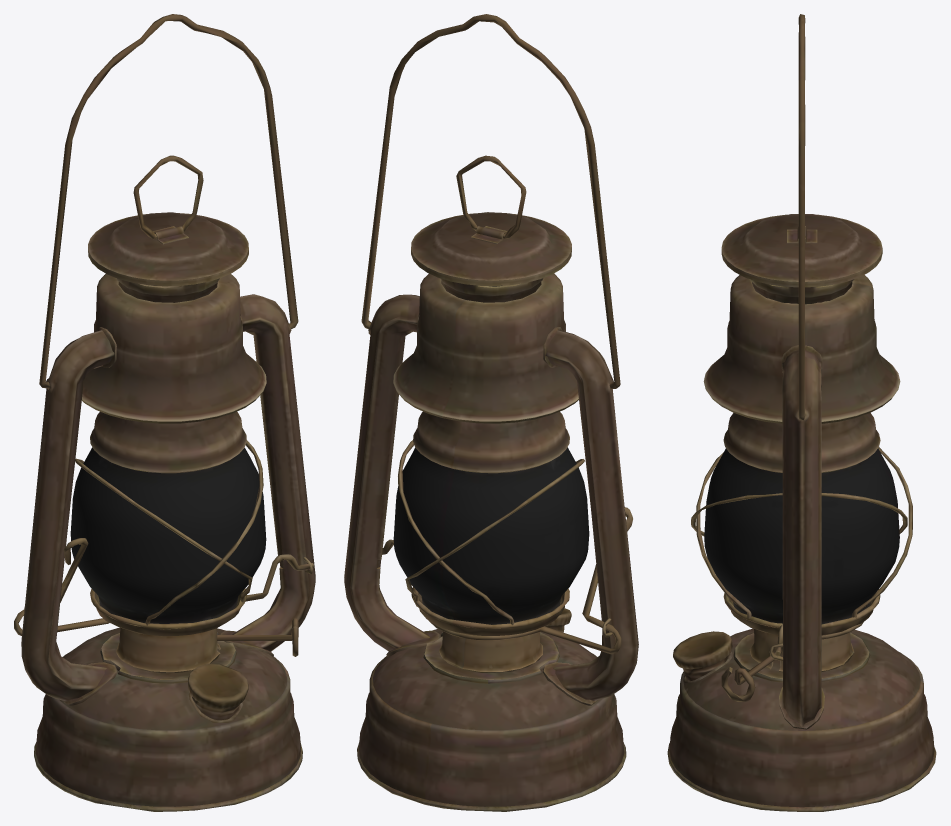
The model's file is Lantern_01.glb.
3 renders of one model, left to right at view 1: azimuth 30°, elevation 25°; view 2: azimuth 150°, elevation 25°; view 3: azimuth 270°, elevation 25°, orthographic.
Parts seen in each view (by area): view 1: Lantern_01, Lantern_01_glass; view 2: Lantern_01, Lantern_01_glass; view 3: Lantern_01, Lantern_01_glass.
Boxes of the visible parts, x1,y1,x2,y2 form: Lantern_01: [14, 14, 315, 811]; Lantern_01_glass: [70, 447, 266, 623]; Lantern_01: [344, 14, 638, 811]; Lantern_01_glass: [393, 447, 589, 624]; Lantern_01: [667, 14, 936, 811]; Lantern_01_glass: [704, 448, 899, 624].
Size of the model in its own units: 0.1219 by 0.2939 by 0.097.
2 materials, 2 textured.
